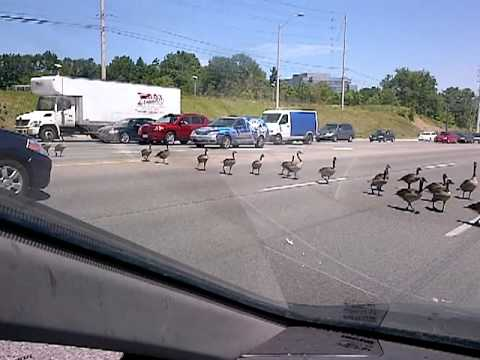goose: (394, 177, 430, 212), (366, 163, 395, 197), (429, 179, 457, 210), (459, 160, 480, 199), (317, 155, 340, 184), (285, 150, 305, 179), (399, 167, 424, 187), (220, 149, 238, 176), (278, 153, 297, 175), (429, 173, 451, 192), (193, 147, 209, 173), (155, 142, 173, 164), (249, 153, 265, 176), (136, 142, 154, 162), (54, 141, 68, 158), (39, 139, 52, 155)
